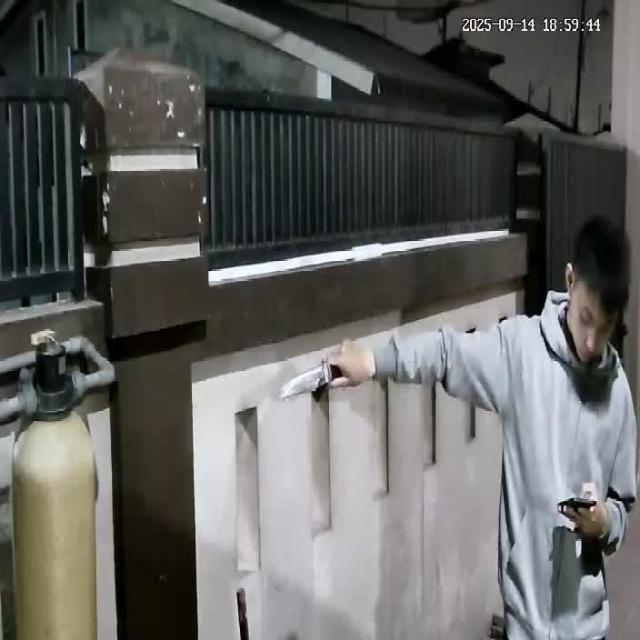senjata_tajam: (270, 357, 332, 402)
